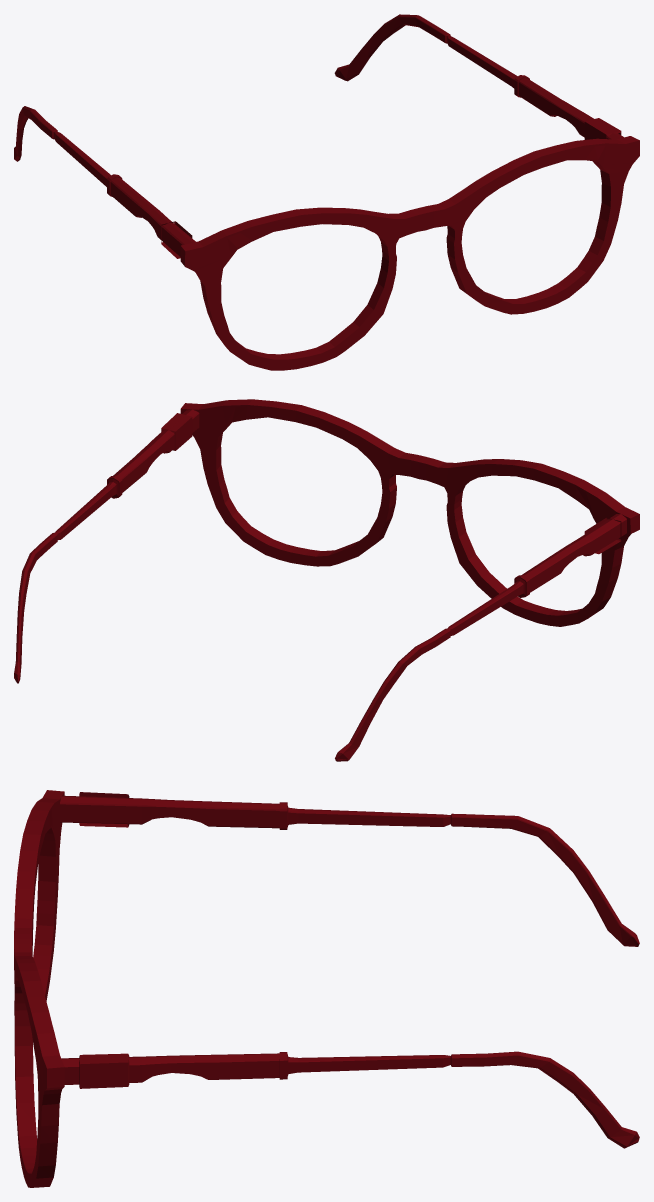
File: glass_maroon.obj
The picture shows the model from 3 angles, top to bottom: view 1: azimuth 30°, elevation 25°; view 2: azimuth 150°, elevation 25°; view 3: azimuth 270°, elevation 25°; orthographic projection. The views are drawn at different scales.
Visible parts, largest first — view 1: group6_group5_group3_group1_group2_pCube1_polySurface6_grou.003; view 2: group6_group5_group3_group1_group2_pCube1_polySurface6_grou.003; view 3: group6_group5_group3_group1_group2_pCube1_polySurface6_grou.003.
Part boxes in pixels (x1,y1,x2,y2): group6_group5_group3_group1_group2_pCube1_polySurface6_grou.003: [14, 14, 639, 370]; group6_group5_group3_group1_group2_pCube1_polySurface6_grou.003: [14, 399, 639, 761]; group6_group5_group3_group1_group2_pCube1_polySurface6_grou.003: [14, 790, 639, 1187].
Bounding box in the file's own units: 0.068 × 0.0219 × 0.0645.
